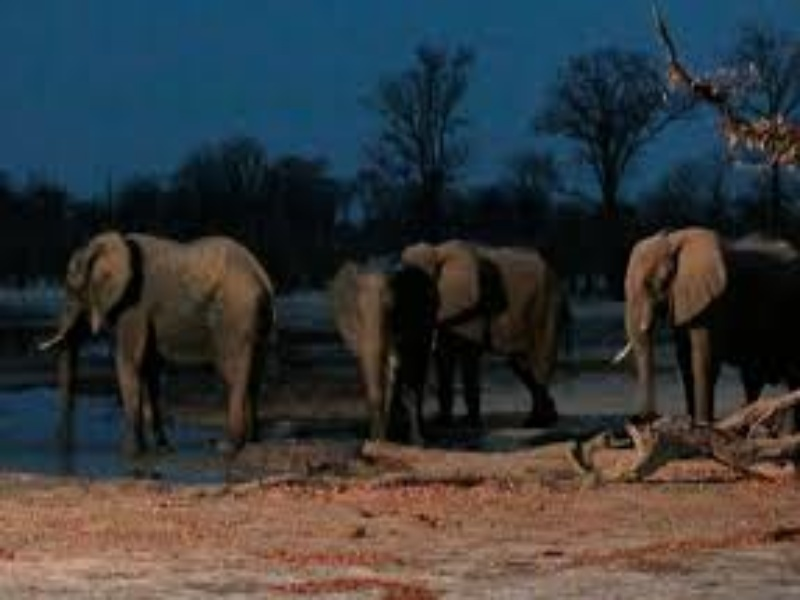elephant: (51, 192, 292, 503), (607, 184, 790, 459)
